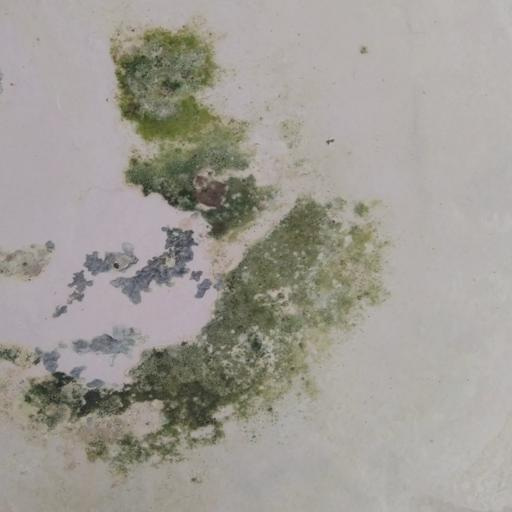algae: (0, 0, 396, 469)
